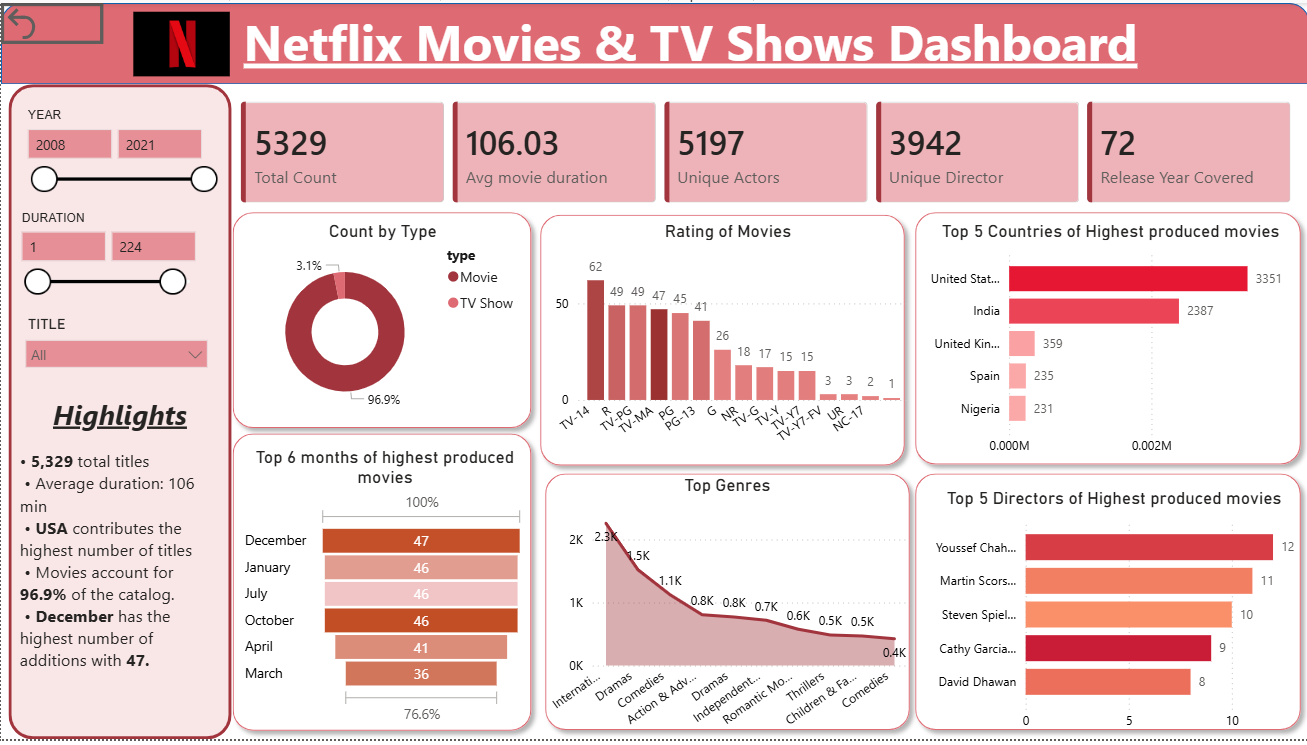

The page's visual inventory and layout, read from the dashboard file:
{"tool":"powerbi","page":{"name":"Page 1","canvas":[1280,720],"ordinal":0},"visuals":[{"type":"cardVisual","fields":{"Data":["Count(netflix_cleaned.show_id)","Avg(netflix_cleaned.movie_duration)","Count(netflix_cleaned.cast)","Count(netflix_cleaned.director)","Count(netflix_cleaned.release_year)"]},"box":[218.2,79.6,1062.1,133.1],"z":0},{"type":"shape","box":[218.2,411.7,310.1,308.7],"z":1000},{"type":"shape","box":[218.2,196.2,310.1,229.2],"z":2000},{"type":"shape","box":[518.7,197.6,374.6,263.5],"z":3000},{"type":"columnChart","title":"Rating of Movies","fields":{"Category":["netflix_cleaned.rating"],"Y":["Count(netflix_cleaned.release_year)"]},"box":[529.7,212.7,363.6,238.8],"z":4000},{"type":"shape","box":[522.8,451.5,374.6,269],"z":5000},{"type":"areaChart","title":"Top Genres","fields":{"Category":["netflix_cleaned.listed_in"],"Y":["CountNonNull(netflix_cleaned.year_added)"]},"box":[529.7,461.1,362.3,259.3],"z":6000},{"type":"shape","box":[885.1,196.2,395.2,264.8],"z":7000},{"type":"barChart","title":"Top 5 Countries of Highest produced movies","fields":{"Category":["netflix_cleaned.country"],"Y":["CountNonNull(netflix_cleaned.show_id)"]},"box":[891.9,212.7,388.3,238.8],"z":8000},{"type":"shape","box":[885.1,451.5,395.2,269],"z":9000},{"type":"barChart","title":"Top 5 Directors of Highest produced movies","fields":{"Category":["netflix_cleaned.director"],"Y":["Count(netflix_cleaned.release_year)"]},"box":[897.4,474.8,382.8,245.6],"z":10000},{"type":"funnel","title":"Top 6 months of highest produced movies","fields":{"Category":["netflix_cleaned.Custom"],"Y":["Count(netflix_cleaned.release_year)"]},"box":[233.3,433.6,284,275.8],"z":11000},{"type":"donutChart","title":"Count by Type","fields":{"Category":["netflix_cleaned.type"],"Y":["CountNonNull(netflix_cleaned.type)"]},"box":[231.9,212.7,282.7,199],"z":12000},{"type":"shape","box":[6.9,79.6,218.2,640.8],"z":13000},{"type":"textbox","box":[0,197.6,553,70],"z":14000},{"type":"shape","box":[0,0,1280.3,79.6],"z":15000},{"type":"textbox","box":[232.3,0,997.8,79.5],"z":16000},{"type":"slicer","fields":{"Values":["netflix_cleaned.year_added"]},"box":[13.7,97.4,205.8,96.1],"z":17000},{"type":"slicer","title":"Duration","fields":{"Values":["netflix_cleaned.duration_num"]},"box":[6.9,197.6,199,102.9],"z":18000},{"type":"slicer","fields":{"Values":["netflix_cleaned.title"]},"box":[13.7,300.5,199,78.2],"z":19000},{"type":"textbox","box":[13.7,378.7,205.8,341.7],"z":20000},{"type":"actionButton","box":[0,0,100,40],"z":21000},{"type":"actionButton","box":[0,0,100,40],"z":22000},{"type":"actionButton","box":[0,0,100.3,40.4],"z":23000},{"type":"image","box":[119.8,8.6,113.7,63.6],"z":24000}]}

Visuals, with their boxes in screenshot pixels (x1, y1, x2, y2), scaled from the page's 1280x720 canvas onto the 1307x745 screenshot:
cardVisual - Count(netflix_cleaned.show_id) x Avg(netflix_cleaned.movie_duration): 223:82:1306:220
shape: 223:426:539:744
shape: 223:203:539:440
shape: 530:204:912:477
"Rating of Movies" columnChart: 541:220:912:467
shape: 534:467:916:744
"Top Genres" areaChart: 541:477:911:744
shape: 904:203:1306:477
"Top 5 Countries of Highest produced movies" barChart: 911:220:1306:467
shape: 904:467:1306:744
"Top 5 Directors of Highest produced movies" barChart: 916:491:1306:744
"Top 6 months of highest produced movies" funnel: 238:449:528:734
"Count by Type" donutChart: 237:220:525:426
shape: 7:82:230:744
textbox: 0:204:565:277
shape: 0:0:1306:82
textbox: 237:0:1256:82
slicer - netflix_cleaned.year_added: 14:101:224:200
"Duration" slicer: 7:204:210:311
slicer - netflix_cleaned.title: 14:311:217:392
textbox: 14:392:224:744
actionButton: 0:0:102:41
actionButton: 0:0:102:41
actionButton: 0:0:102:42
image: 122:9:238:75
